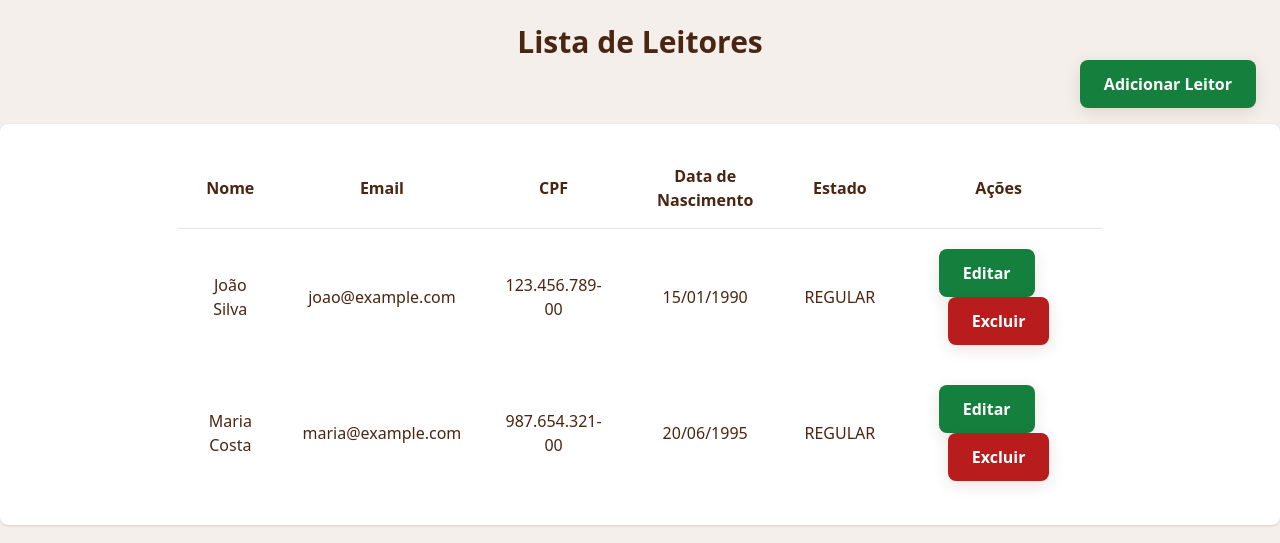
LeitoresPage - Client Component › integração com API › ✅ deve remover leitor da lista após deletar
Check: the text "João Silva" is shown, box [178,228,283,365]
Check: the number of rows is 3, box [178,148,1102,228]; [178,228,1102,365]; [178,365,1102,501]
Clicar no primeiro botão Excluir
Click the button "Excluir" in the row of "joao@example.com" at (999, 321), box [948,297,1050,345]
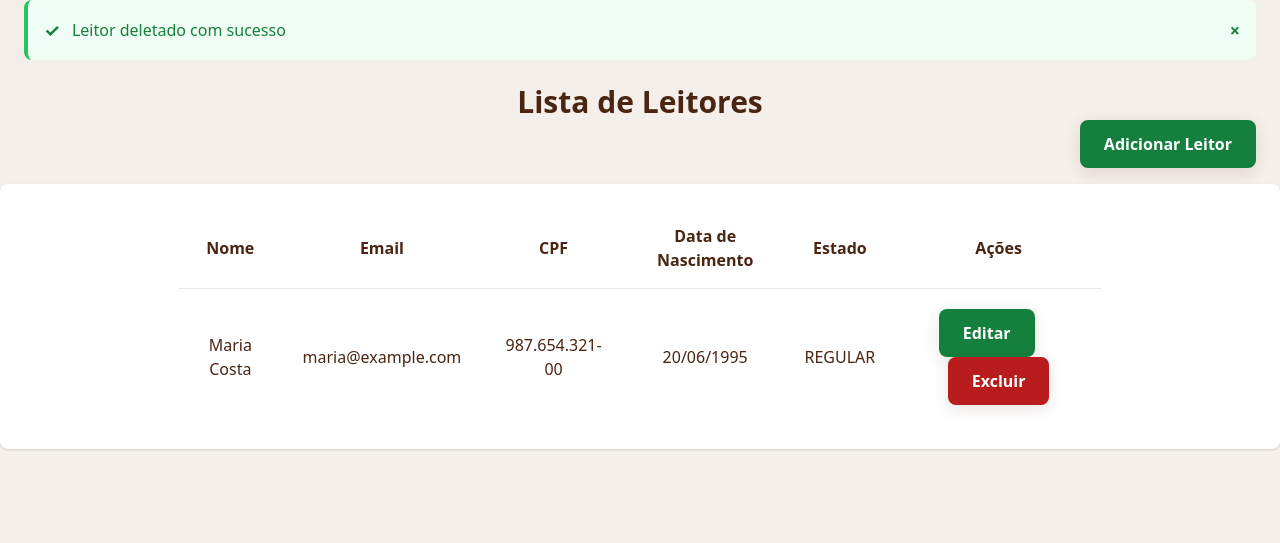
Check: the number of buttons "Excluir" is 1, box [948,357,1050,405]
